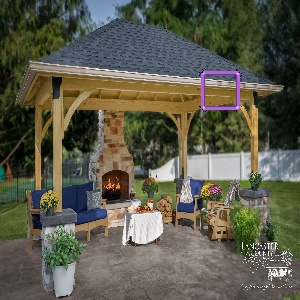square: (200, 69, 243, 112)
